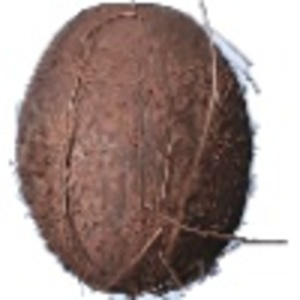coco: (13, 2, 284, 300)
